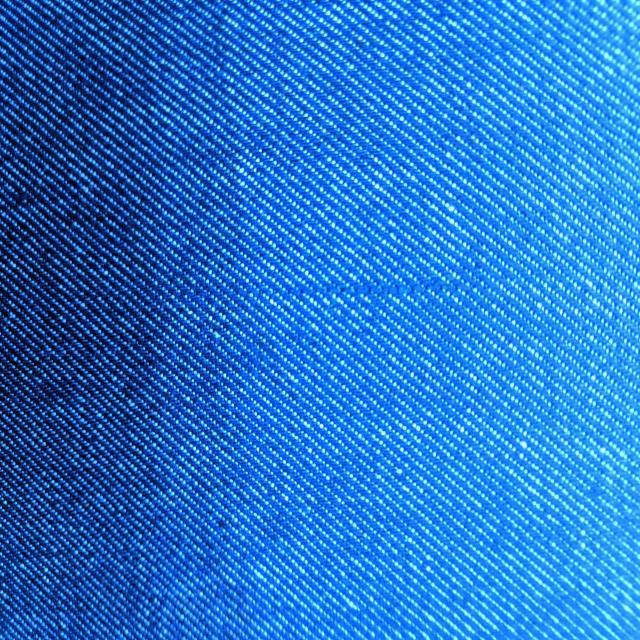Line: (83, 275, 481, 310)
